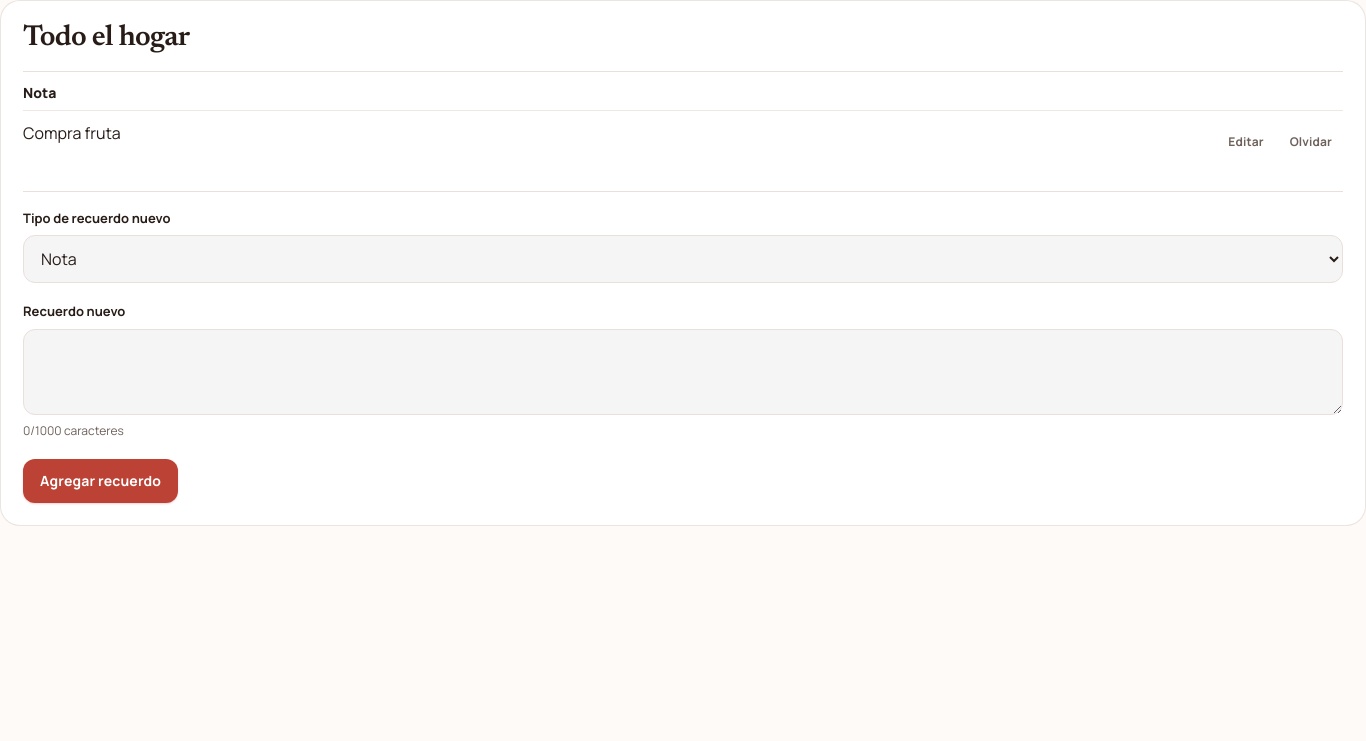
Test: MemoryCard › announces conflict feedback and refreshes stale data
The image size is (1366, 741).
Click the button with aria-label "Editar recuerdo:" at (1246,143), box [1217, 121, 1275, 165]
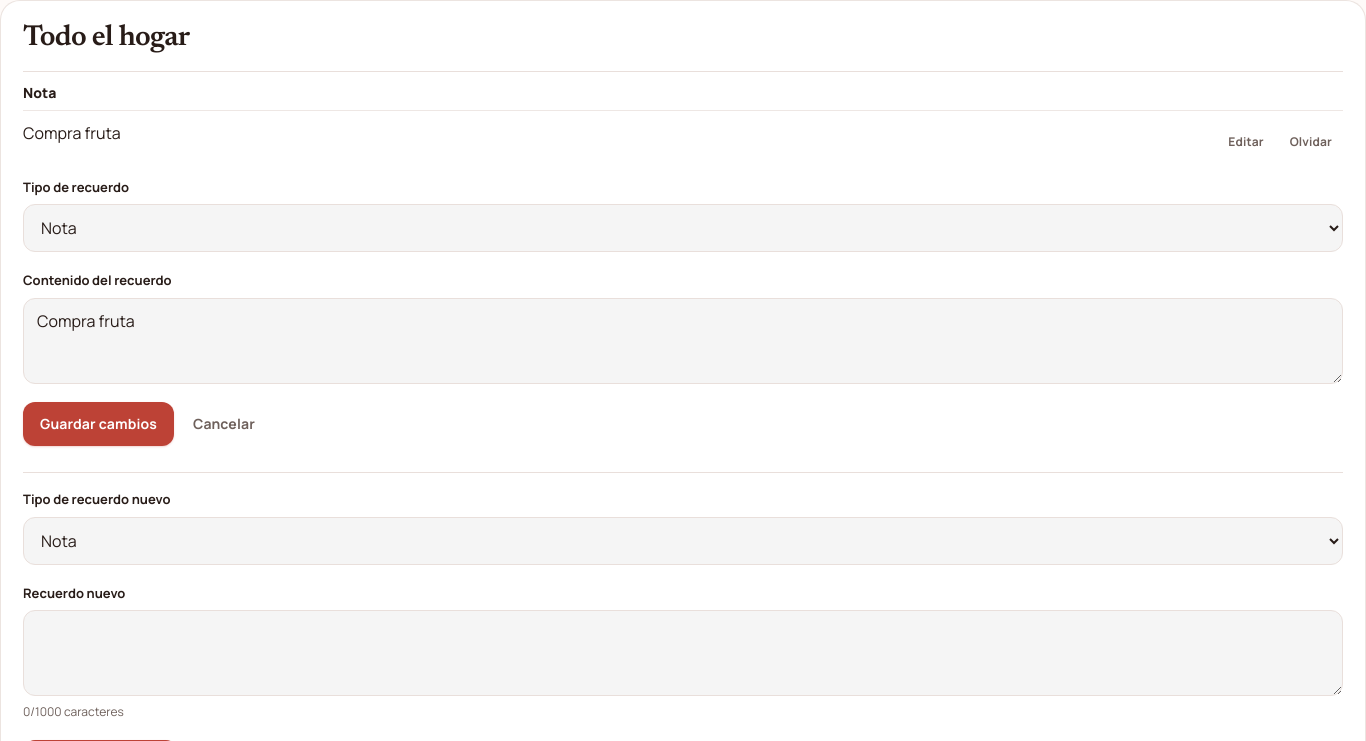
Replace the text in the text box labelled "Contenido del recuerdo" with "Compra verduras" at (683,341), box [23, 298, 1343, 384]
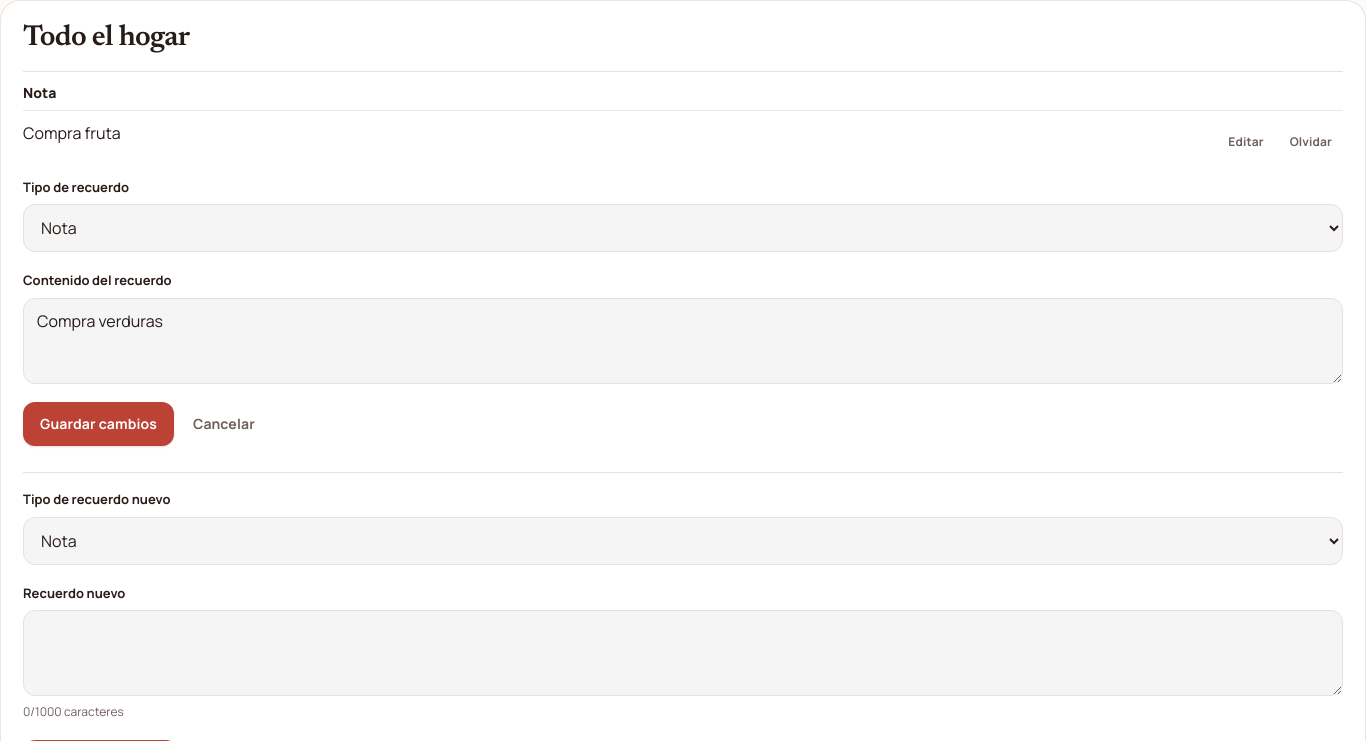
Click the button "Guardar cambios" at (98,424), box [23, 402, 174, 446]
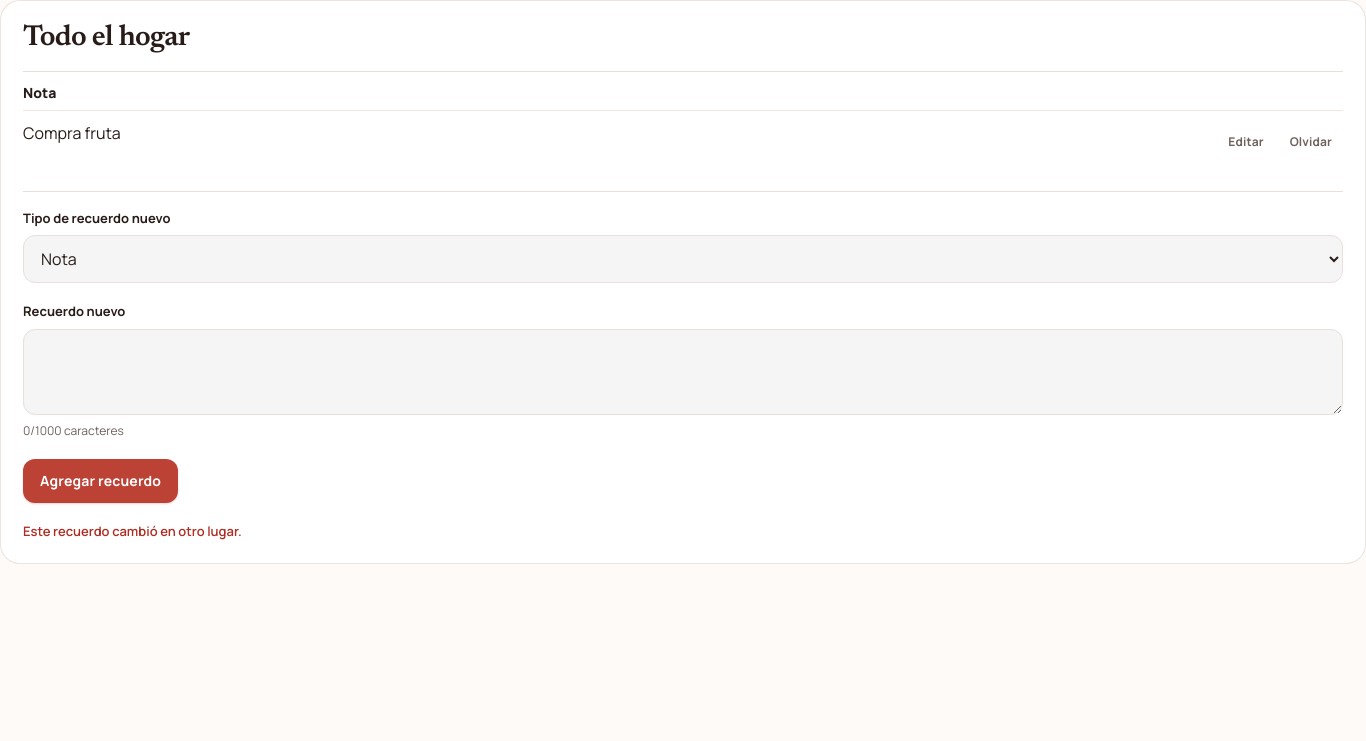
Check: the message reads "Este recuerdo cambió en otro lugar.", box [23, 522, 242, 540]
